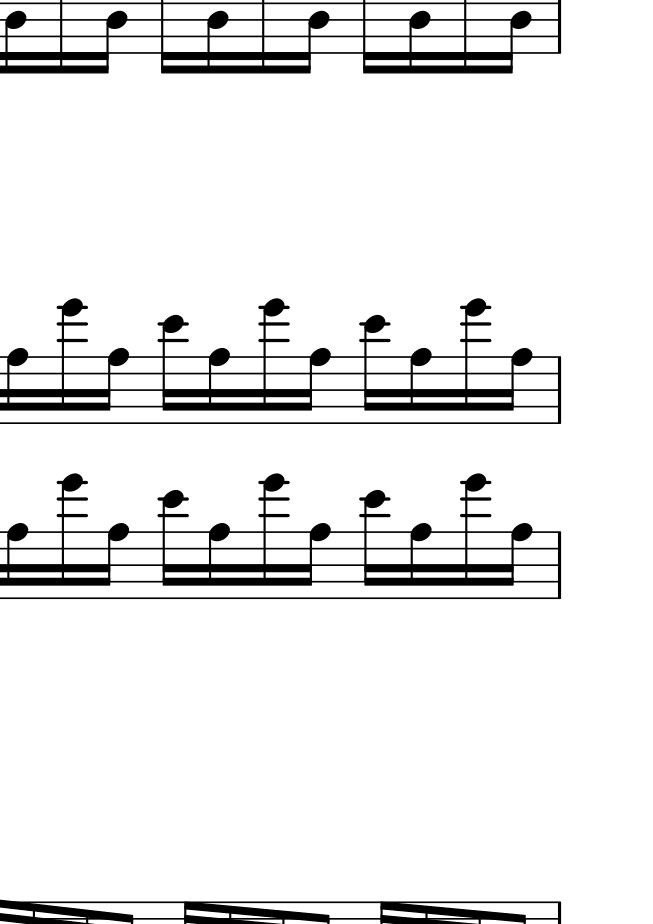16_12: (157, 314, 190, 425), (158, 487, 189, 602), (360, 314, 391, 427), (362, 489, 393, 600)
16_14: (257, 472, 292, 601), (259, 297, 291, 426), (460, 473, 491, 601), (57, 472, 87, 602), (57, 298, 87, 426), (459, 298, 489, 426)
16_8: (301, 520, 331, 601), (406, 346, 435, 428), (102, 522, 131, 602), (205, 521, 233, 603), (407, 521, 435, 601), (205, 347, 232, 427), (102, 346, 129, 425), (506, 521, 533, 600), (304, 347, 331, 425), (507, 345, 533, 426), (5, 348, 29, 428), (4, 521, 27, 603)
Single_barline: (549, 531, 569, 599), (549, 356, 568, 425)
